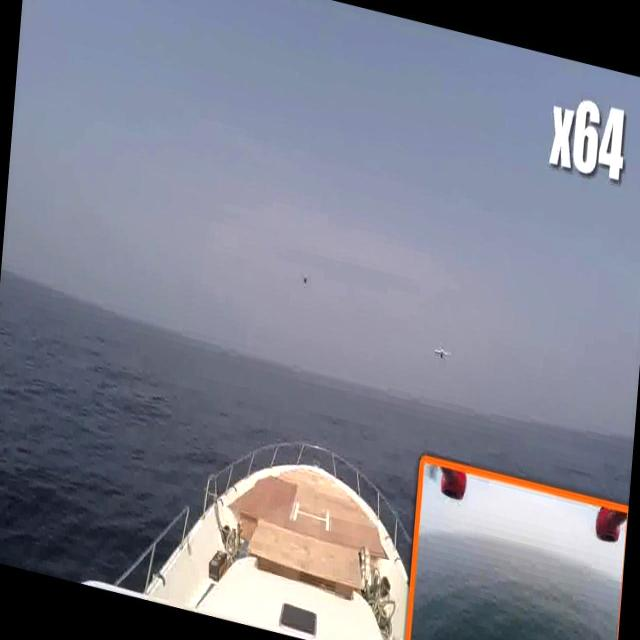drone: (431, 343, 453, 363)
